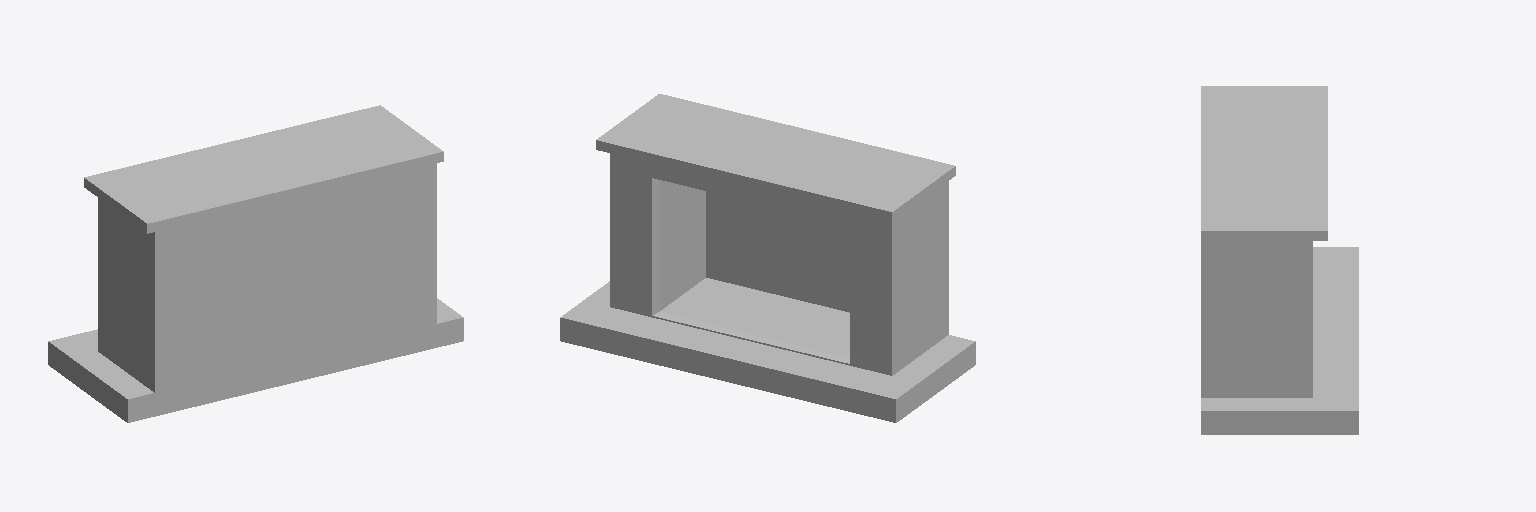
Rendered from chimney.obj.
The picture shows the model from 3 angles: view 1: azimuth 30°, elevation 25°; view 2: azimuth 150°, elevation 25°; view 3: azimuth 270°, elevation 25°; orthographic projection.
Parts seen in each view (by area): view 1: Cube; view 2: Cube; view 3: Cube.
Boxes of the visible parts, x1=… form: Cube: x1=48, y1=105, x2=463, y2=422; Cube: x1=560, y1=94, x2=975, y2=422; Cube: x1=1201, y1=86, x2=1358, y2=434.
Bounding box in the file's own units: 14.29 × 7.9 × 5.85.